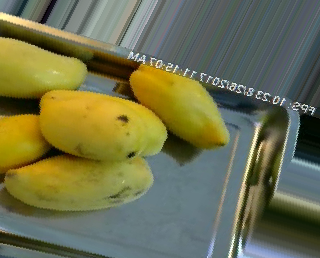Mango: (35, 89, 168, 164), (127, 59, 233, 152), (4, 150, 156, 213), (0, 36, 92, 98), (0, 109, 59, 174)
